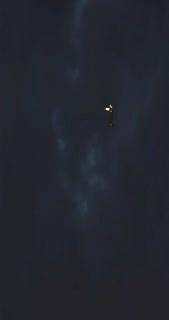Plane: (98, 99, 116, 119)
